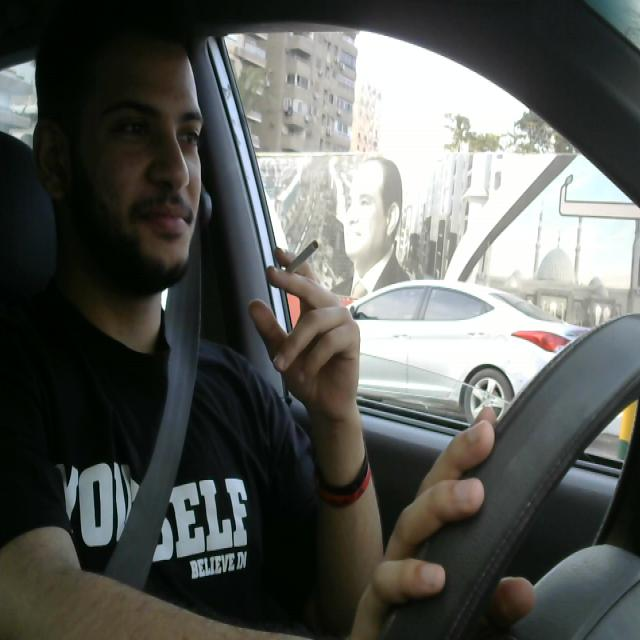smoking: (259, 236, 325, 289)
